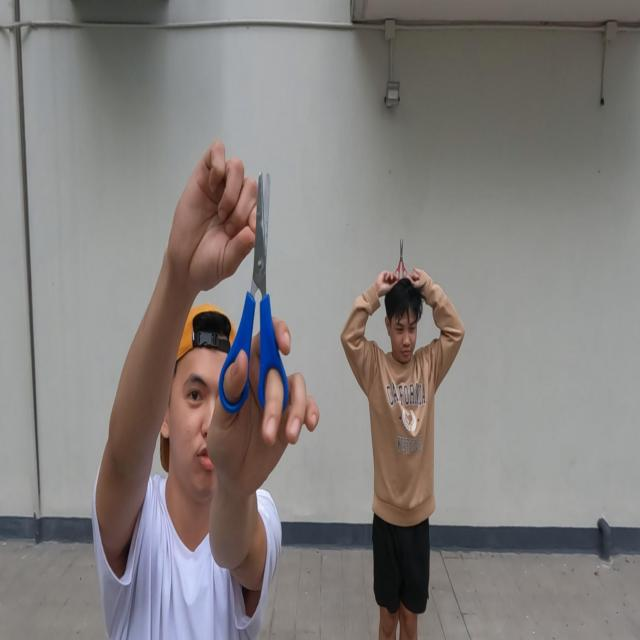scissor: (218, 170, 292, 420), (394, 239, 407, 280)
